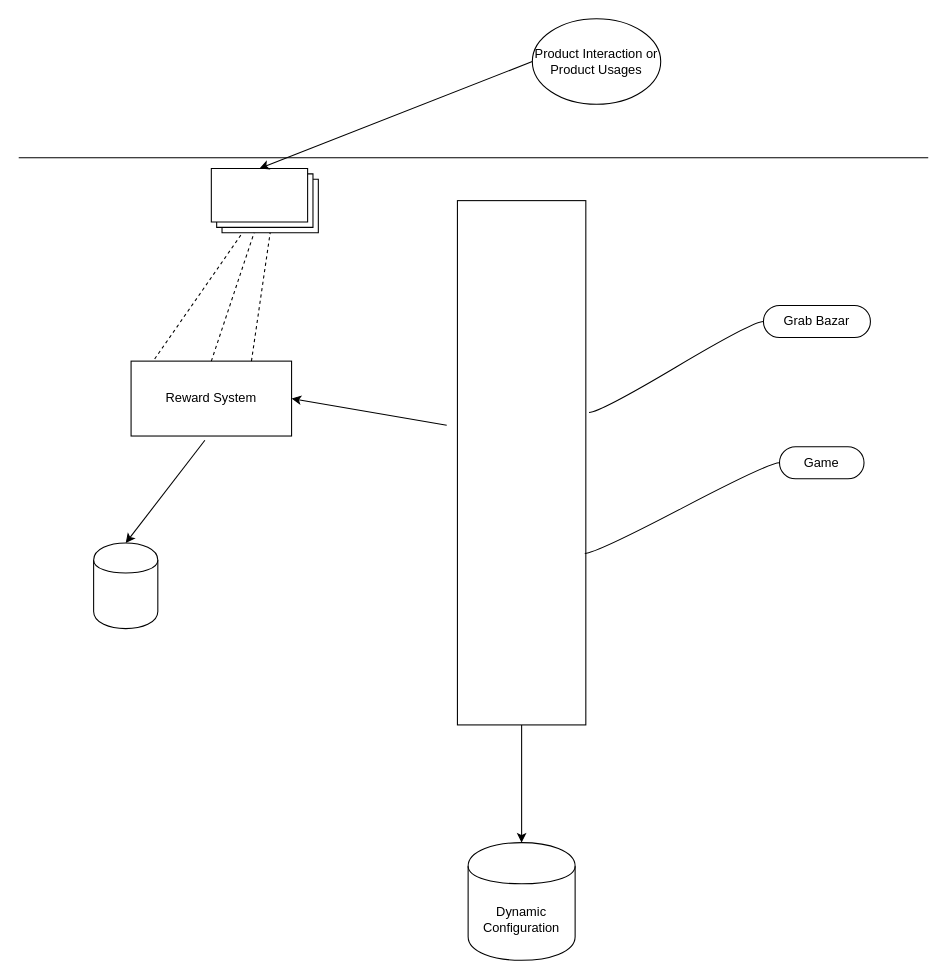
The diagram is 948 pixels wide and 979 high, and some of its shapes have lost their labels. Here are the shapes that lost their labels. From the top down, the box of each, then its label:
(210, 167, 318, 233): Interaction Stream
(456, 200, 586, 725): Reward SDK 1. Get Reward API 2. Redeem API
(93, 542, 158, 629): RewardDB
